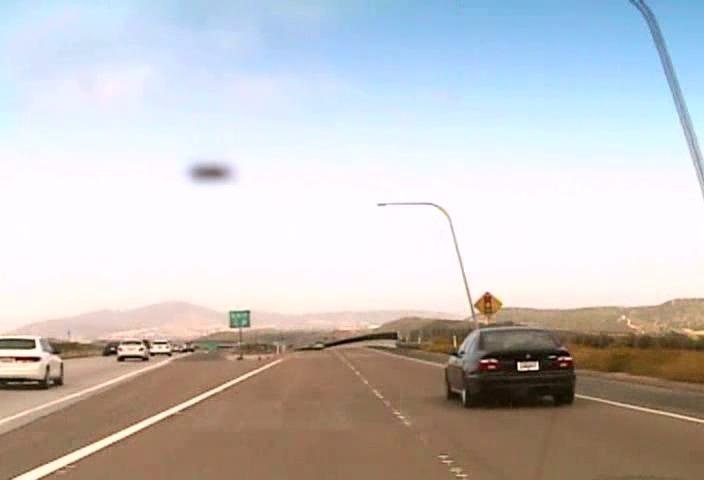signalAhead: (473, 291, 503, 319)
